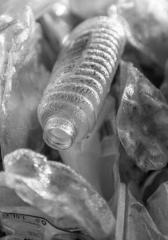plastic: (39, 11, 127, 155)
